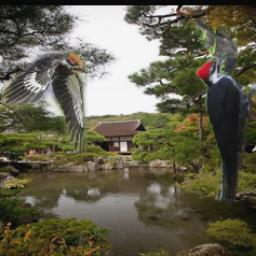Crow: (192, 19, 238, 74)
Woodpecker: (193, 53, 256, 202), (1, 51, 87, 156)
